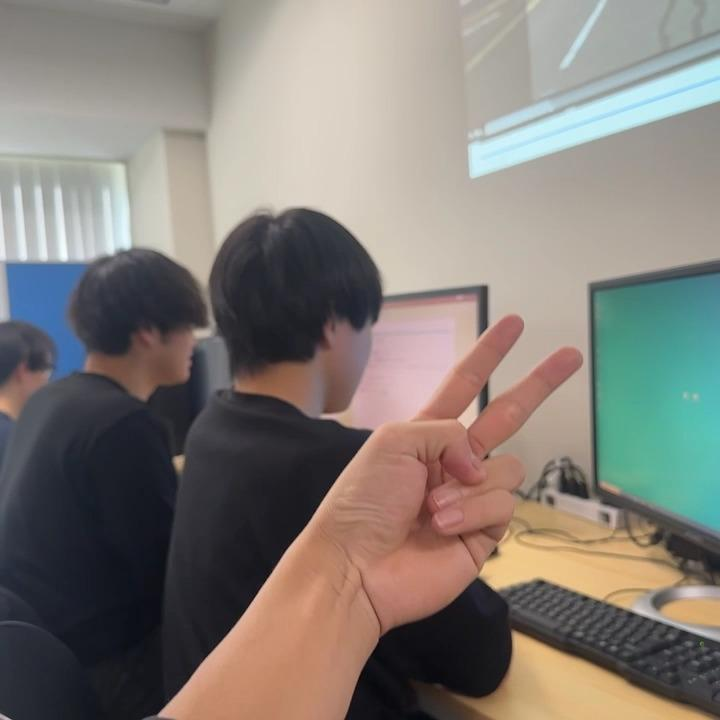without_gloves: (323, 323, 622, 664)
